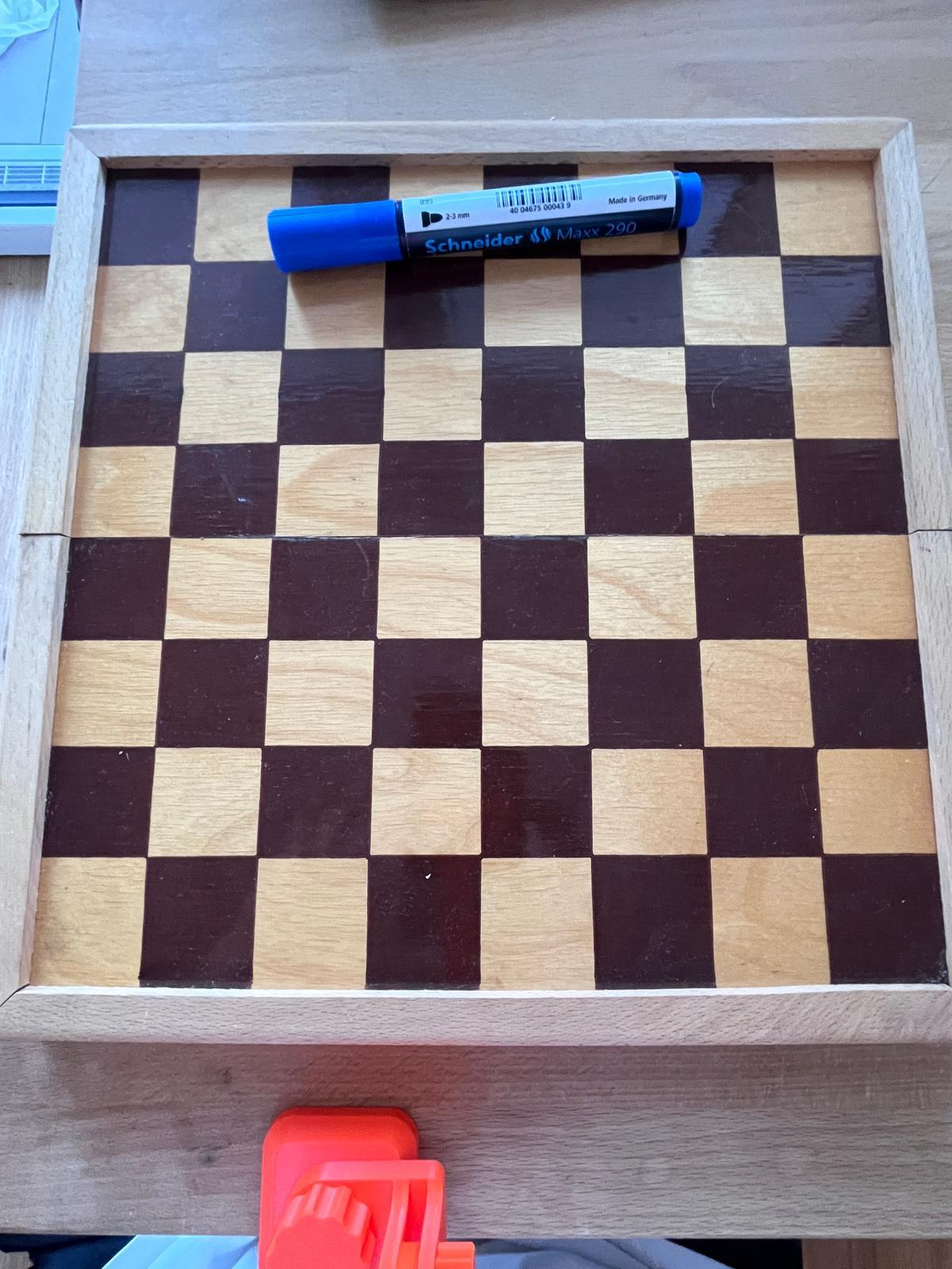marker: (268, 165, 706, 278)
